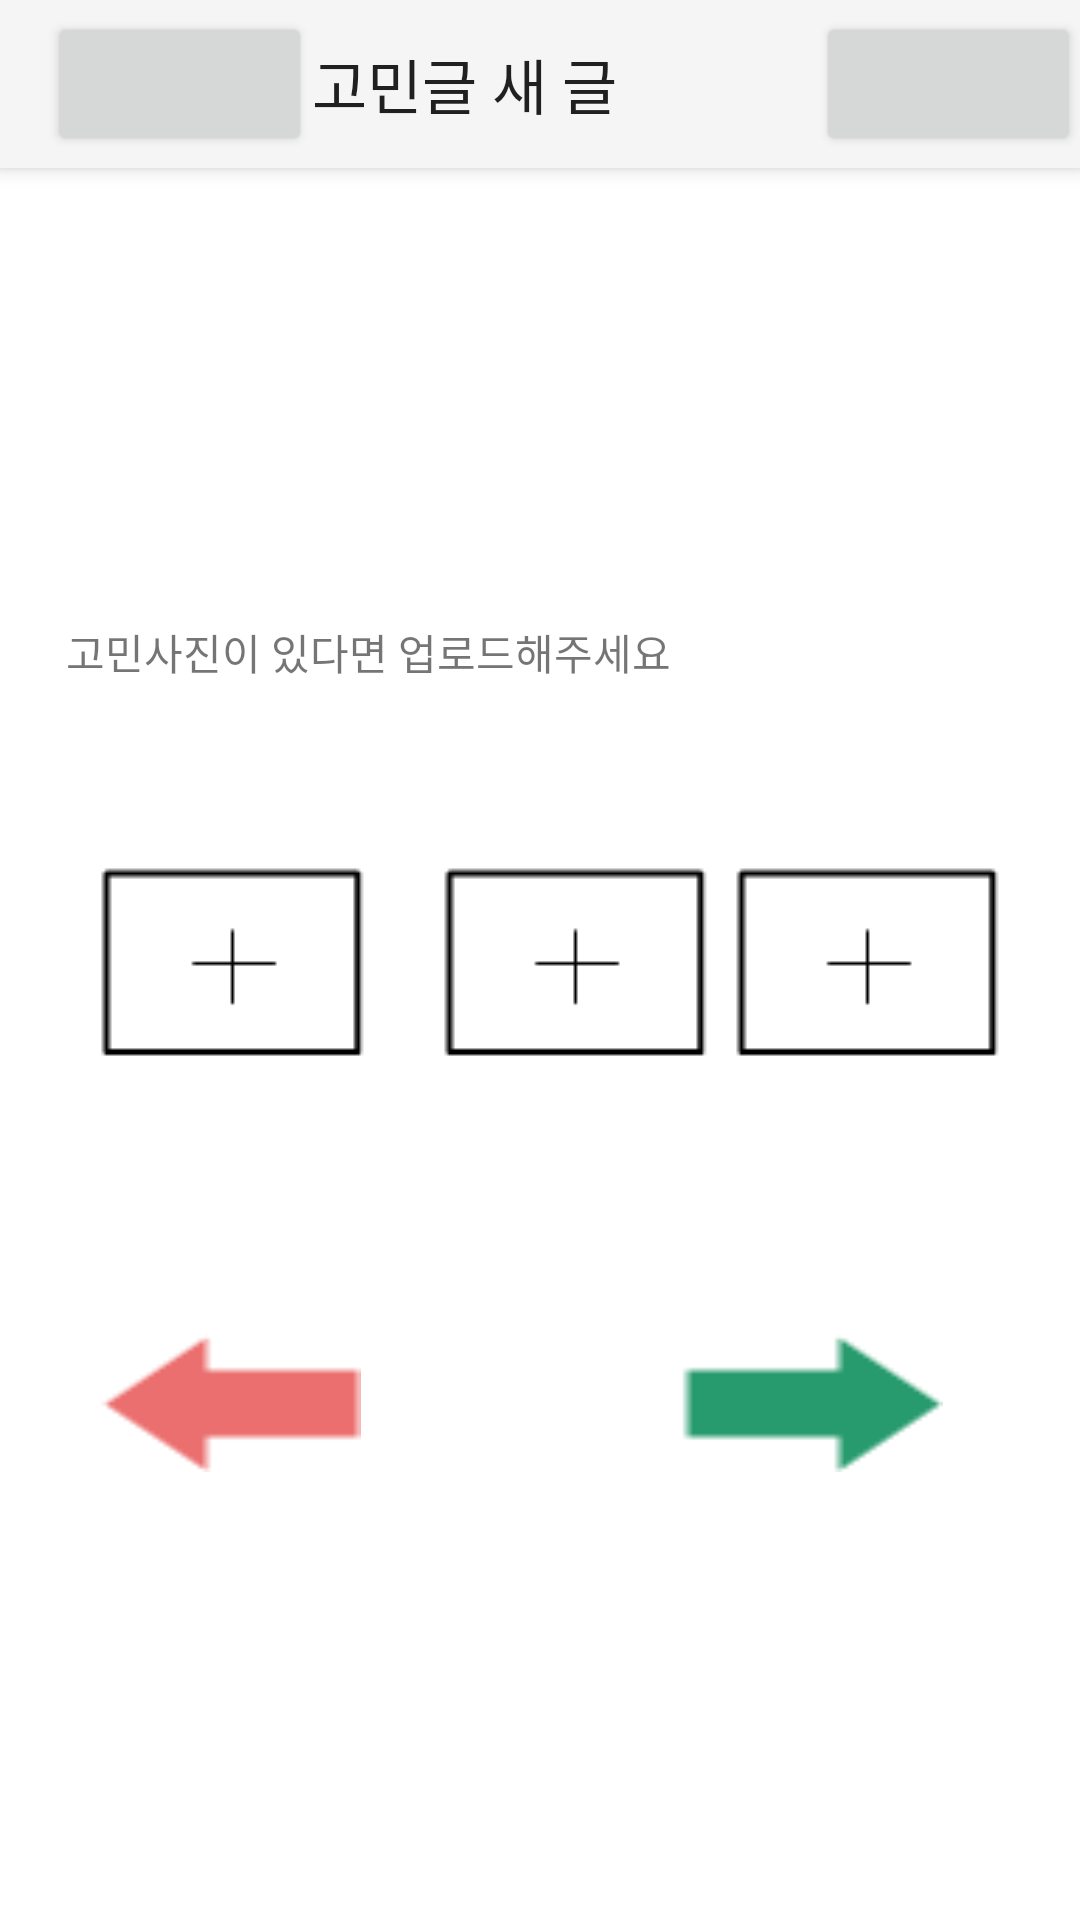

Screen size 1080*1920. Icon name, then its box in pixels as (x1, y1, x2, y2):
before: (104, 1338, 361, 1472)
next: (683, 1338, 943, 1472)
pictureupload: (101, 868, 363, 1056), (444, 868, 706, 1056), (736, 868, 998, 1056)
